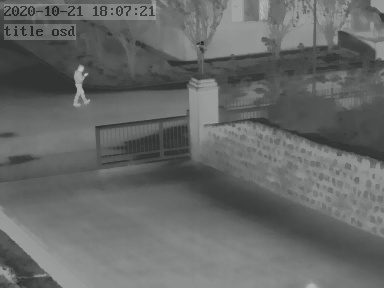person: (74, 63, 89, 105)
